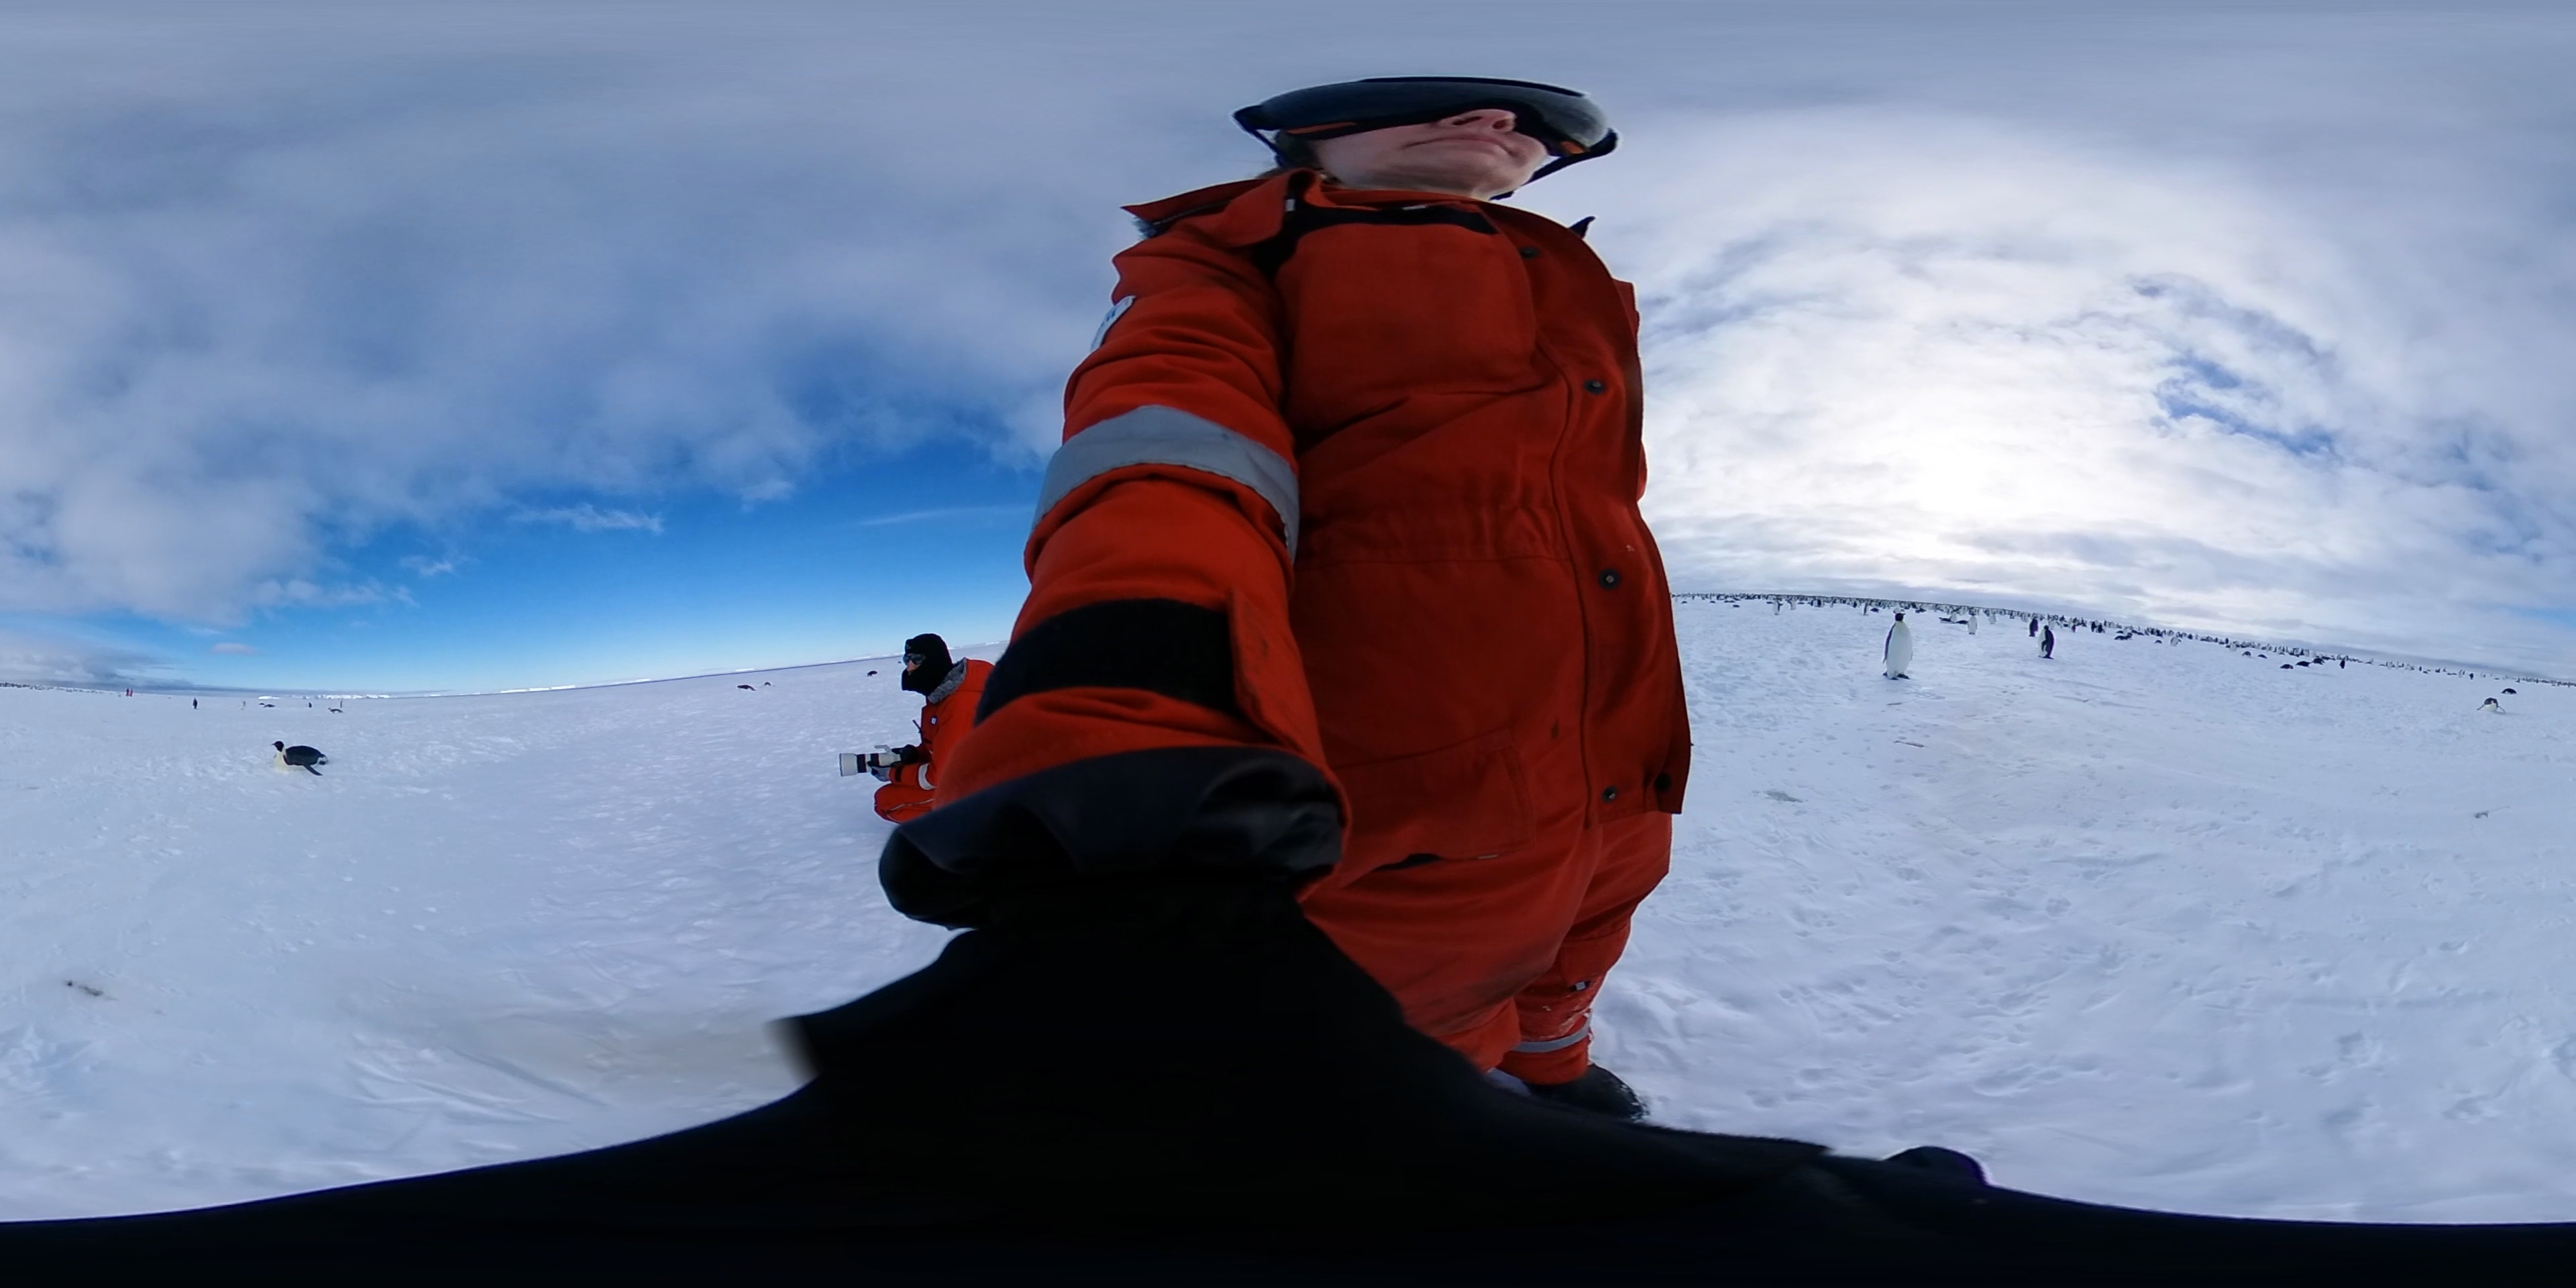adult_standing_penguin: (1879, 611, 1919, 685), (2034, 624, 2057, 660), (1965, 613, 1980, 639)
adult_toboggan_penguin: (269, 739, 332, 775), (2474, 695, 2507, 713), (2499, 683, 2518, 698), (2277, 660, 2297, 672)
researcher: (996, 61, 1676, 1138), (839, 634, 1030, 879)
